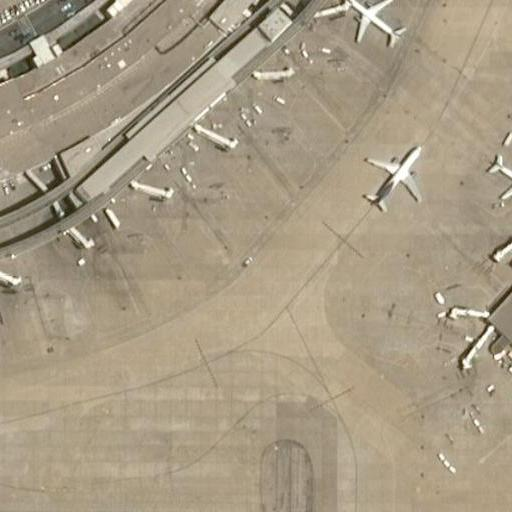Aircraft: (363, 140, 424, 208), (342, 0, 405, 49), (490, 150, 512, 203)
